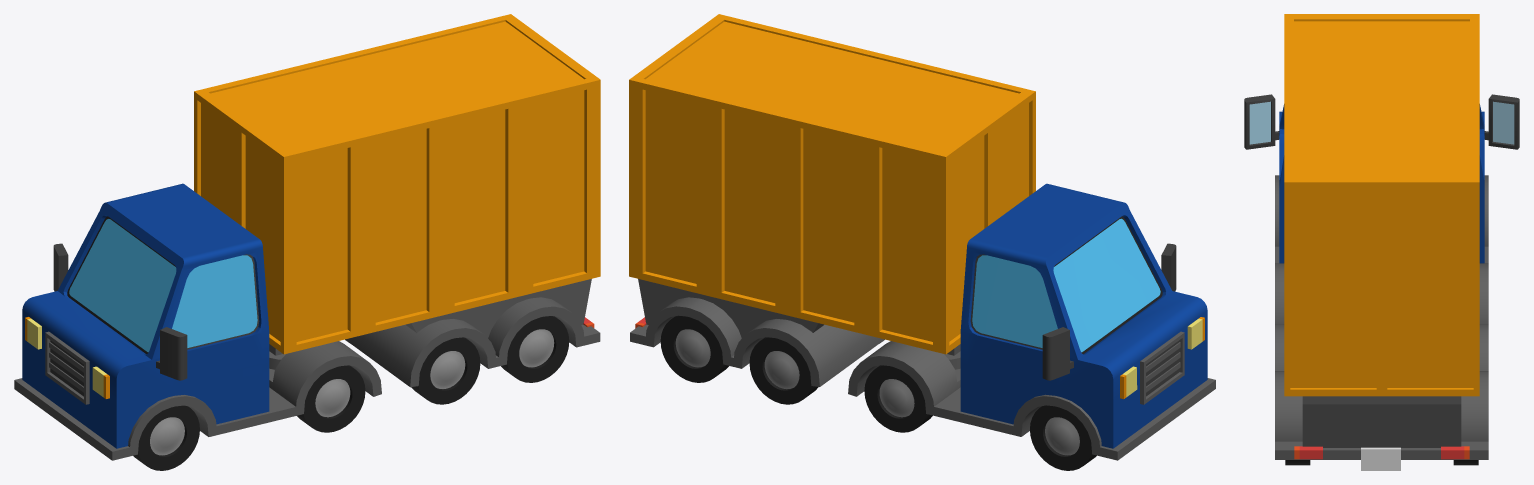
Rendered from articulated_lorry.glb.
3 views of the same model, side by side, from view 1: azimuth 30°, elevation 25°; view 2: azimuth 150°, elevation 25°; view 3: azimuth 270°, elevation 25° (orthographic). The views are drawn at different scales.
Parts seen in each view (by area): view 1: Cube.709; view 2: Cube.709; view 3: Cube.709.
Boxes of the visible parts, bbox=[...] form: Cube.709: bbox=[14, 14, 600, 470]; Cube.709: bbox=[629, 14, 1215, 470]; Cube.709: bbox=[1244, 14, 1519, 470].
Bounding box in the file's own units: 2.3 × 1.28 × 1.02.
1 material, 1 textured.
